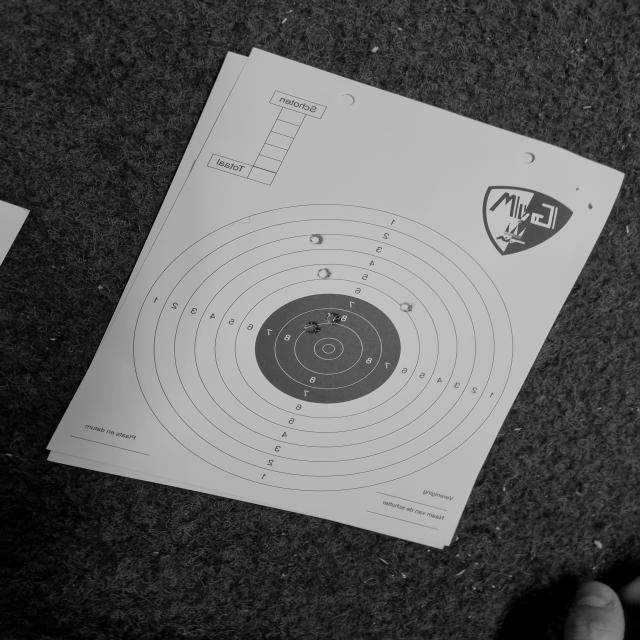3: (309, 234, 323, 245)
5: (317, 268, 332, 279)
6: (399, 302, 413, 312)
9: (326, 312, 341, 326), (304, 322, 321, 334)
Target: (132, 203, 514, 492)
black_contour: (253, 296, 405, 406)
